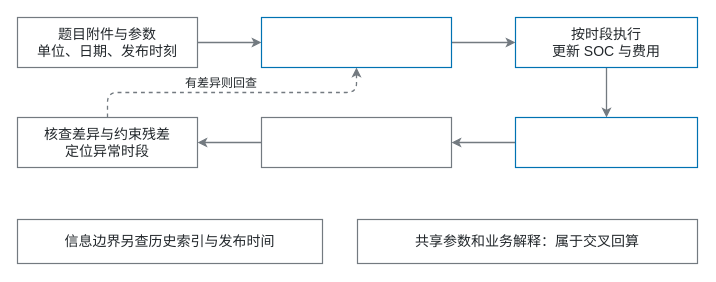
Some shapes in this 716 by 282 pixel diagram are drawn without their labels. The box of each missing label's shape, as (x1, y1, x2, y2) in pixels:
导出 Excel 结果表 计划、动作、状态: (514, 116, 698, 168)
重新读取逐时段结果 平衡 / SOC / 功率 / 费用: (260, 116, 452, 168)
预测与模型装配 稀疏约束 → HiGHS: (260, 16, 452, 68)
